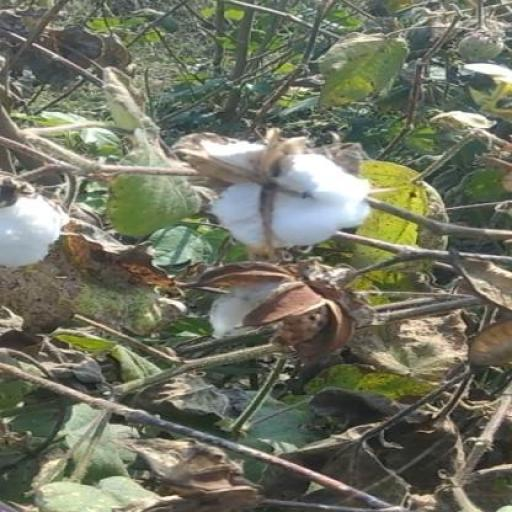cotton_ready: (157, 113, 391, 266)
